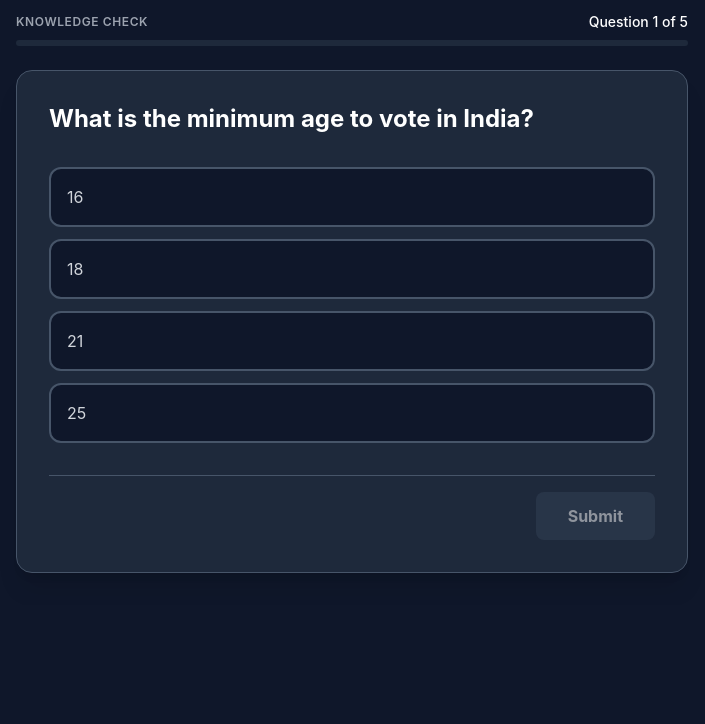
Test case: QuizWidget › shows correct feedback on right answer
// Q1: correct answer is "18"
Click the button "18" at (75, 269), box top-left (49, 239), bottom-right (655, 299)
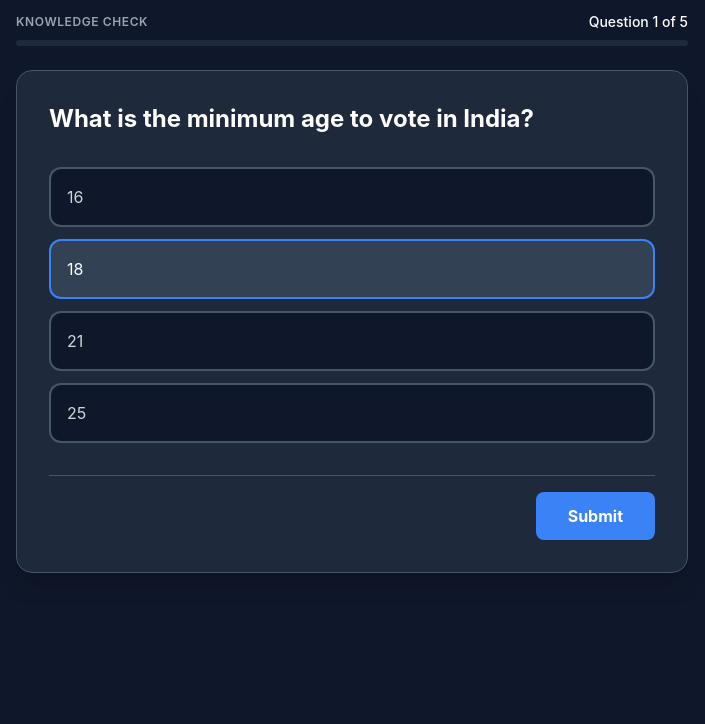
Click the button "Submit" at (595, 516), box top-left (536, 492), bottom-right (655, 540)
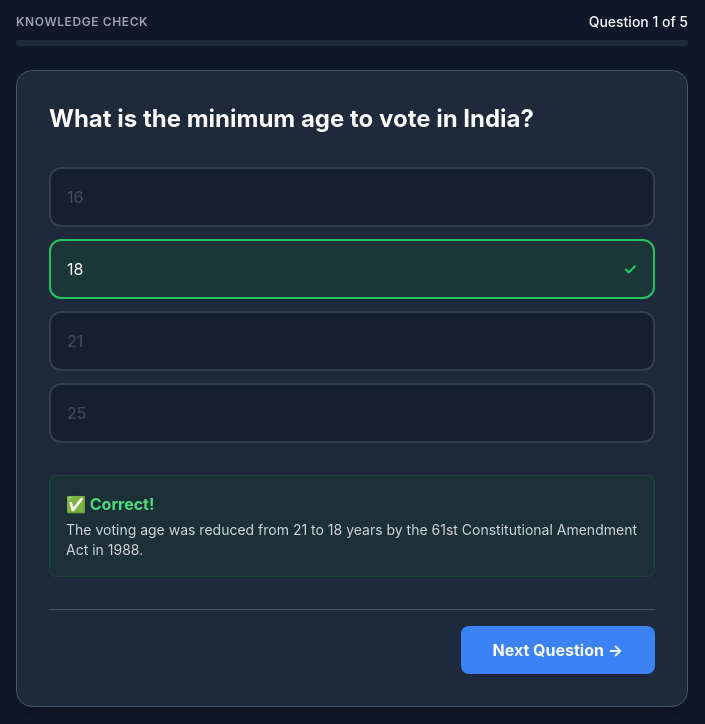
Check: the text "✅ Correct!" is shown, box top-left (66, 492), bottom-right (154, 516)
